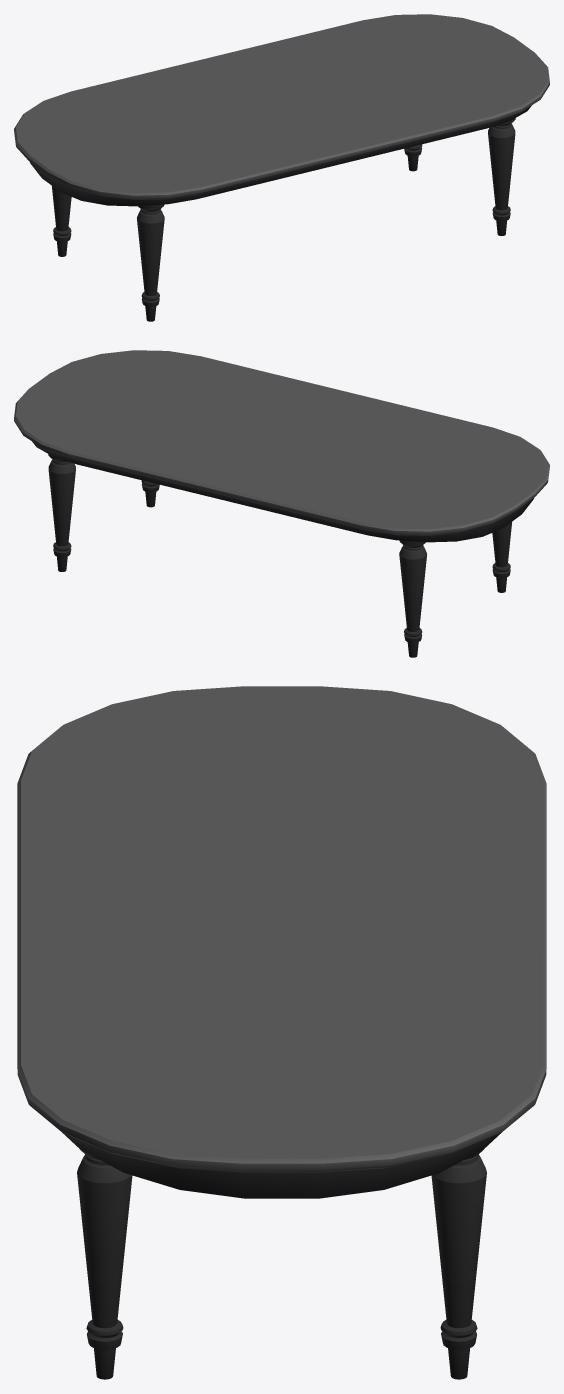
Rendered from kitchenTable.fbx.
The picture shows the model from 3 angles, top to bottom: view 1: azimuth 30°, elevation 25°; view 2: azimuth 150°, elevation 25°; view 3: azimuth 270°, elevation 25°; orthographic projection. The views are drawn at different scales.
Parts seen in each view (by area): view 1: kitchenTable; view 2: kitchenTable; view 3: kitchenTable.
Part boxes in pixels (x1,y1,x2,y2): kitchenTable: (14, 14, 549, 321); kitchenTable: (14, 350, 549, 657); kitchenTable: (17, 686, 546, 1379).
Size of the model in its own units: 2.91 by 0.8065 by 1.37.
